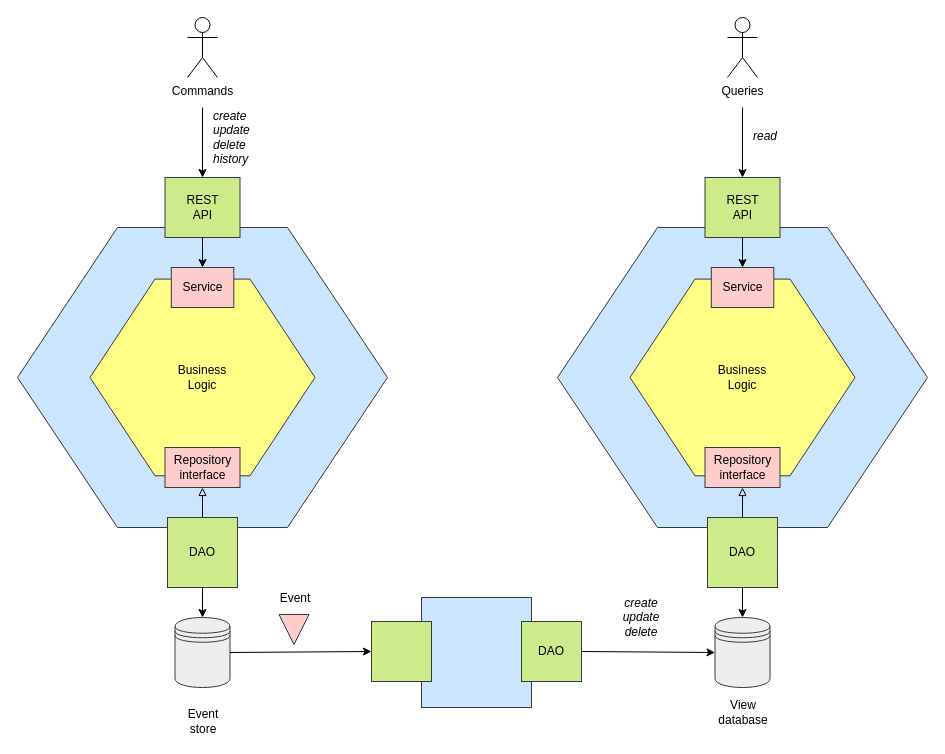
Some shapes in this 945 by 754 pixel diagram are drawn without their labels. Here are the shapes that lost their labels. From the top down, the centre of each, then its label:
At (x=401, y=651): "Event handler".
At (x=476, y=652): "Projector".
